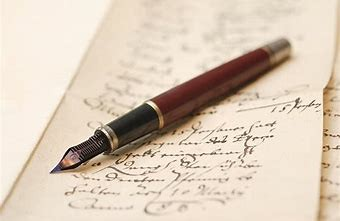pen: (42, 36, 291, 179)
